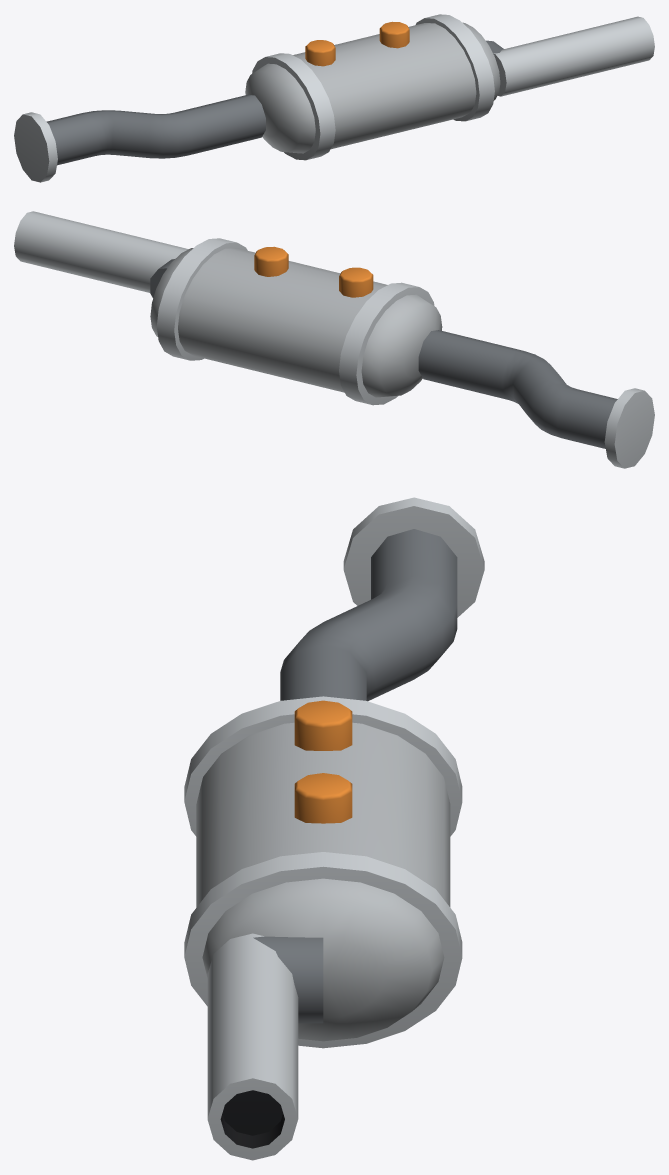
File: SM_Muffler_01.glb
The picture shows the model from 3 angles, top to bottom: view 1: azimuth 30°, elevation 25°; view 2: azimuth 150°, elevation 25°; view 3: azimuth 270°, elevation 25°; orthographic projection. The views are drawn at different scales.
Visible parts, largest first — view 1: SM_Muffler_01; view 2: SM_Muffler_01; view 3: SM_Muffler_01.
Boxes of the visible parts, x1=… form: SM_Muffler_01: x1=14, y1=14, x2=654, y2=182; SM_Muffler_01: x1=14, y1=211, x2=654, y2=468; SM_Muffler_01: x1=184, y1=497, x2=484, y2=1160.
Size of the model in its own units: 1.31 by 0.2194 by 0.298.
Materials: 1 (1 with a texture image).
